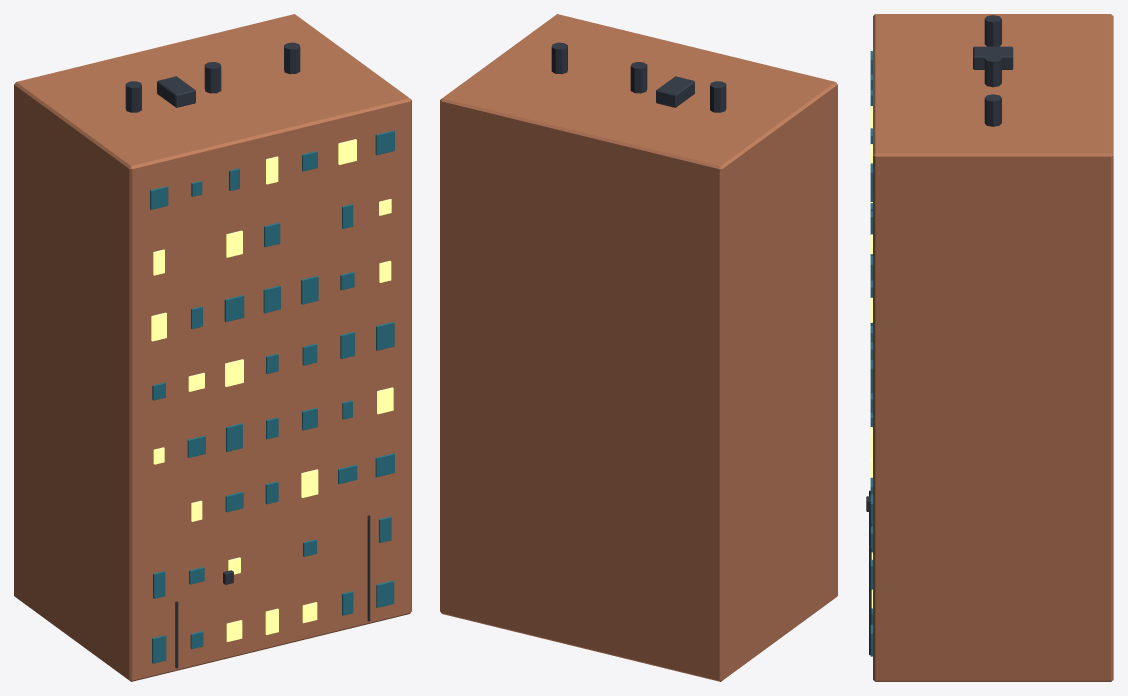
The model's file is building_034_seed11.glb.
The picture shows the model from 3 angles, left to right: view 1: azimuth 30°, elevation 25°; view 2: azimuth 150°, elevation 25°; view 3: azimuth 270°, elevation 25°; orthographic projection. The views are drawn at different scales.
Visible parts, largest first — view 1: building_034_seed11; view 2: building_034_seed11; view 3: building_034_seed11.
Part boxes in pixels (<box>): building_034_seed11: <box>14,14,411,681</box>; building_034_seed11: <box>440,14,837,681</box>; building_034_seed11: <box>866,14,1113,681</box>.
Size of the model in its own units: 10.78 by 19.7 by 7.97.
